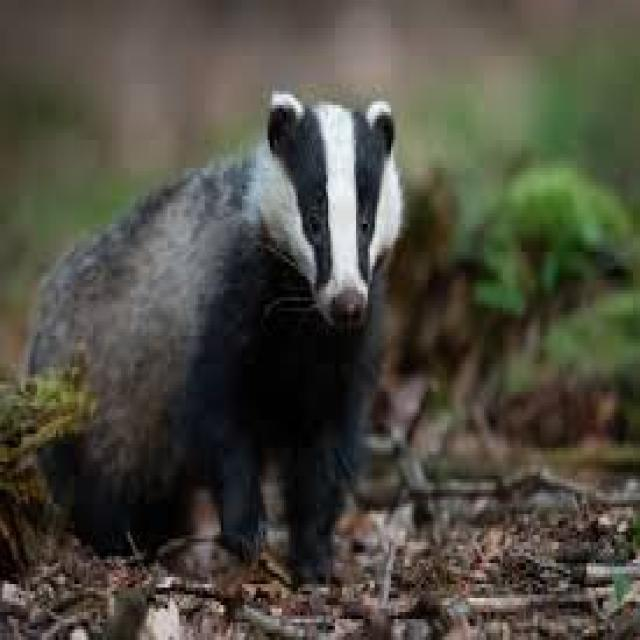Badger: (20, 69, 408, 571)
